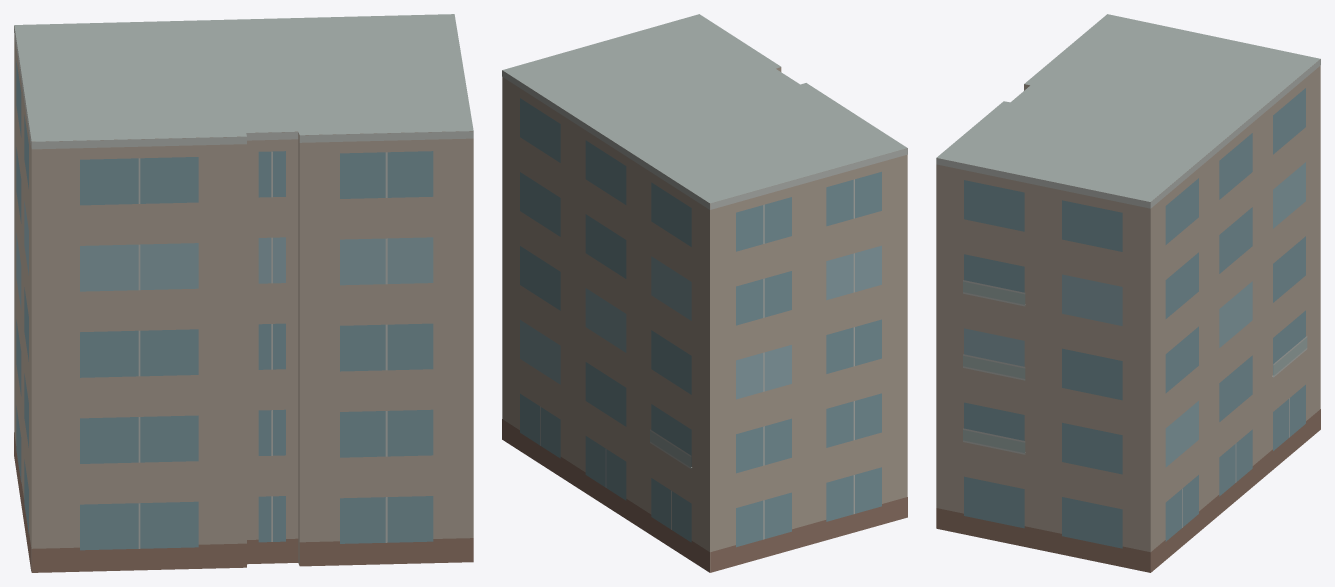
Rendered from survey-upis-32882617.glb.
The picture shows the model from 3 angles, left to right: view 1: azimuth 30°, elevation 25°; view 2: azimuth 150°, elevation 25°; view 3: azimuth 270°, elevation 25°; orthographic projection. The views are drawn at different scales.
Visible parts, largest first — view 1: survey-upis-32882617.tmp; view 2: survey-upis-32882617.tmp; view 3: survey-upis-32882617.tmp.
Boxes of the visible parts, x1,y1,x2,y2 form: survey-upis-32882617.tmp: (14, 14, 473, 572); survey-upis-32882617.tmp: (502, 14, 907, 572); survey-upis-32882617.tmp: (936, 14, 1320, 572).
Bounding box in the file's own units: 15.02 × 13.8 × 12.98.
